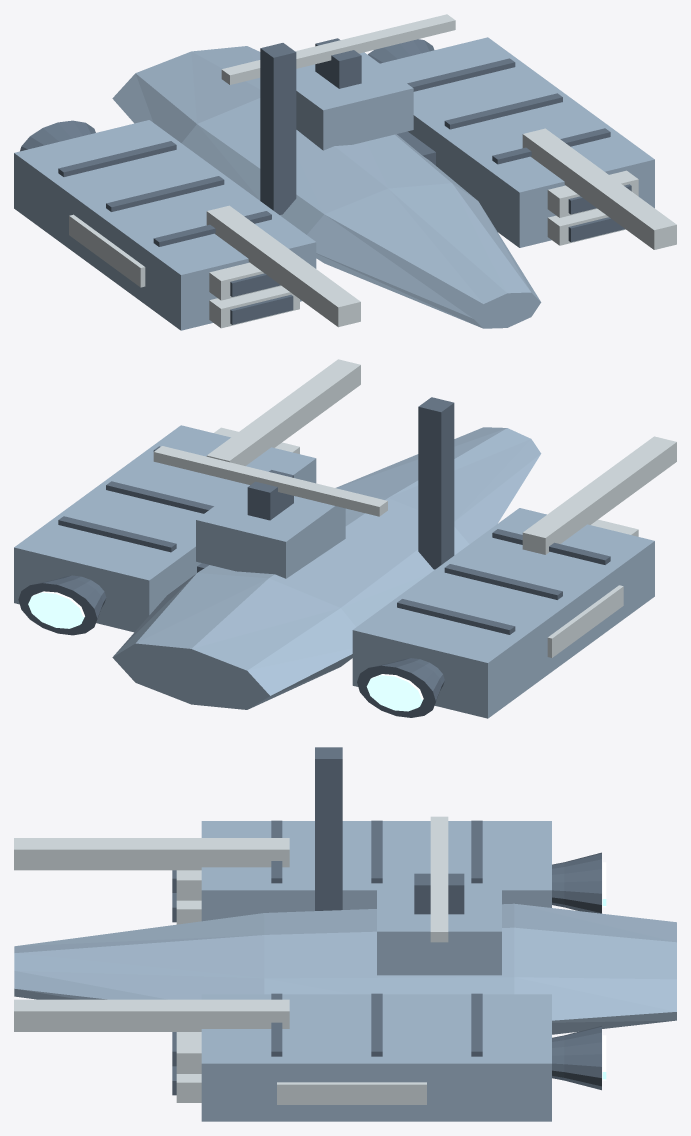
The picture shows the model from 3 angles, top to bottom: view 1: azimuth 30°, elevation 25°; view 2: azimuth 150°, elevation 25°; view 3: azimuth 270°, elevation 25°; orthographic projection. The views are drawn at different scales.
Size of the model in its own units: 10.18 by 4.48 by 11.55.
